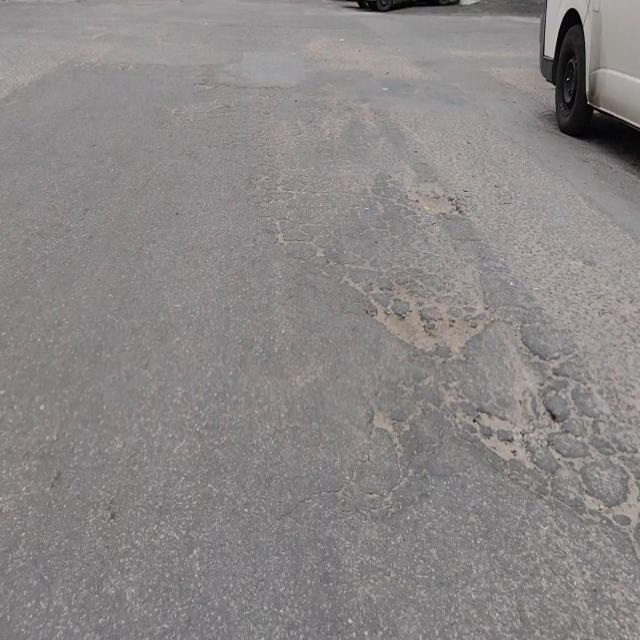Potholes: (467, 388, 563, 468), (368, 300, 486, 361), (417, 190, 462, 221)
